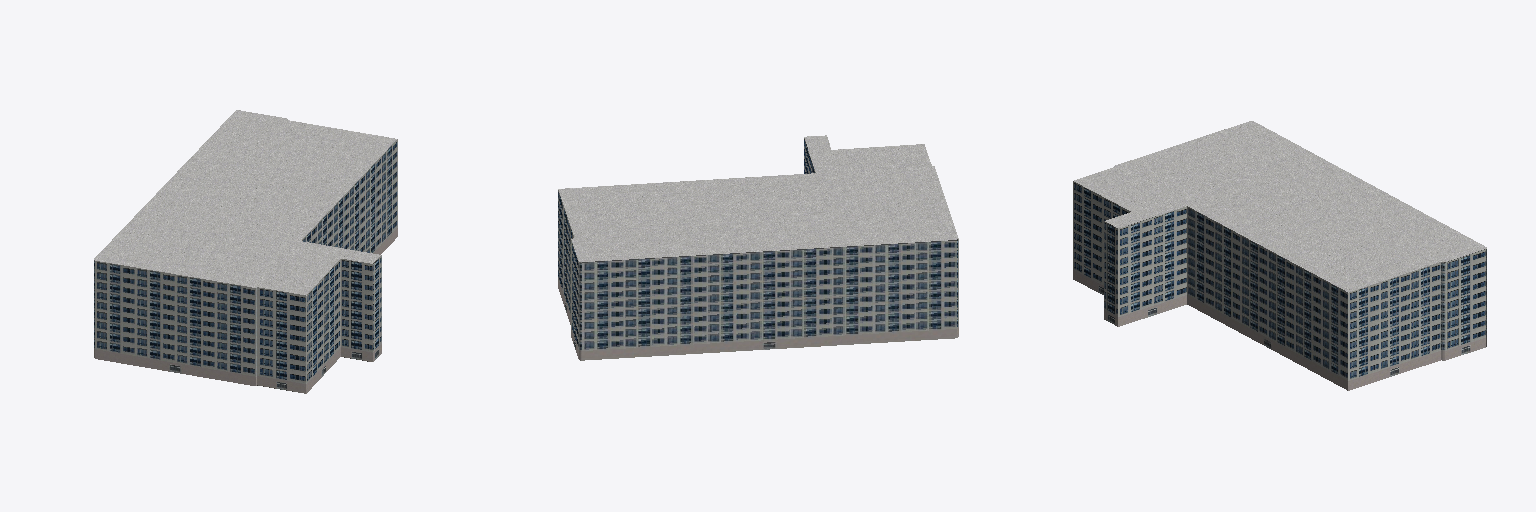
3 renders of one model, left to right at view 1: azimuth 30°, elevation 25°; view 2: azimuth 150°, elevation 25°; view 3: azimuth 270°, elevation 25°, orthographic.
Parts seen in each view (by area): view 1: BuildingMaster_[number redacted]_0, BuildingMaster_[number redacted]_1; view 2: BuildingMaster_[number redacted]_0, BuildingMaster_[number redacted]_1; view 3: BuildingMaster_[number redacted]_0, BuildingMaster_[number redacted]_1.
Boxes of the visible parts, x1,y1,x2,y2 form: BuildingMaster_[number redacted]_0: [94, 139, 397, 393]; BuildingMaster_[number redacted]_1: [94, 110, 396, 295]; BuildingMaster_[number redacted]_0: [558, 138, 958, 360]; BuildingMaster_[number redacted]_1: [558, 135, 958, 261]; BuildingMaster_[number redacted]_0: [1073, 129, 1486, 390]; BuildingMaster_[number redacted]_1: [1074, 121, 1486, 292].
Size of the model in its own units: 131 by 35 by 134.
2 materials, 2 textured.